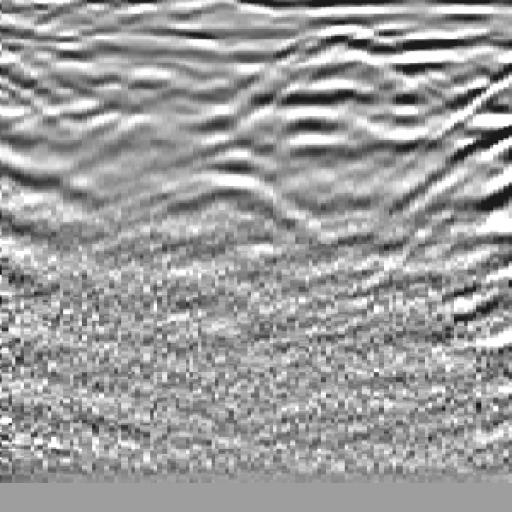metalic: (152, 130, 330, 274)
nonmetalic: (377, 33, 512, 290)
